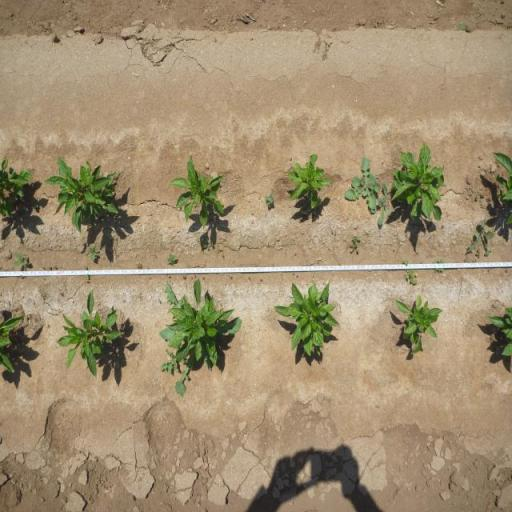plant: (54, 288, 124, 380), (44, 154, 122, 236), (272, 280, 342, 361), (165, 277, 226, 366), (166, 154, 228, 231), (392, 140, 446, 222), (391, 292, 441, 357), (281, 152, 332, 208), (0, 155, 32, 223), (484, 300, 512, 359), (0, 310, 24, 374), (491, 150, 512, 204)
weed: (345, 153, 379, 209), (466, 217, 498, 258), (376, 180, 392, 228), (156, 350, 177, 375), (11, 250, 30, 272), (348, 234, 362, 256), (405, 268, 421, 286), (86, 246, 100, 262), (432, 258, 445, 275), (264, 192, 276, 207), (167, 252, 177, 265), (201, 240, 214, 249), (30, 199, 39, 210), (475, 248, 481, 258), (136, 262, 144, 268), (402, 258, 408, 265), (86, 274, 90, 280), (84, 266, 88, 270)
